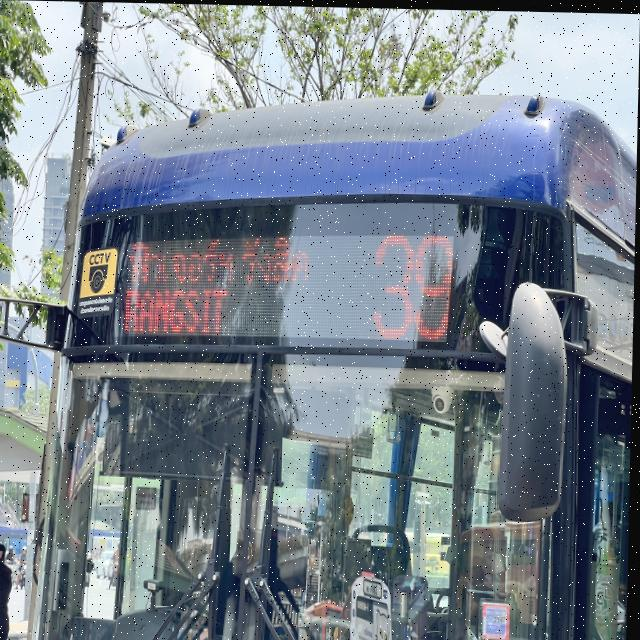Bus-Line-Number: (357, 218, 468, 351)
Destination-Sign-Normal: (123, 226, 316, 342)
TSB-Bus: (26, 84, 639, 640)
